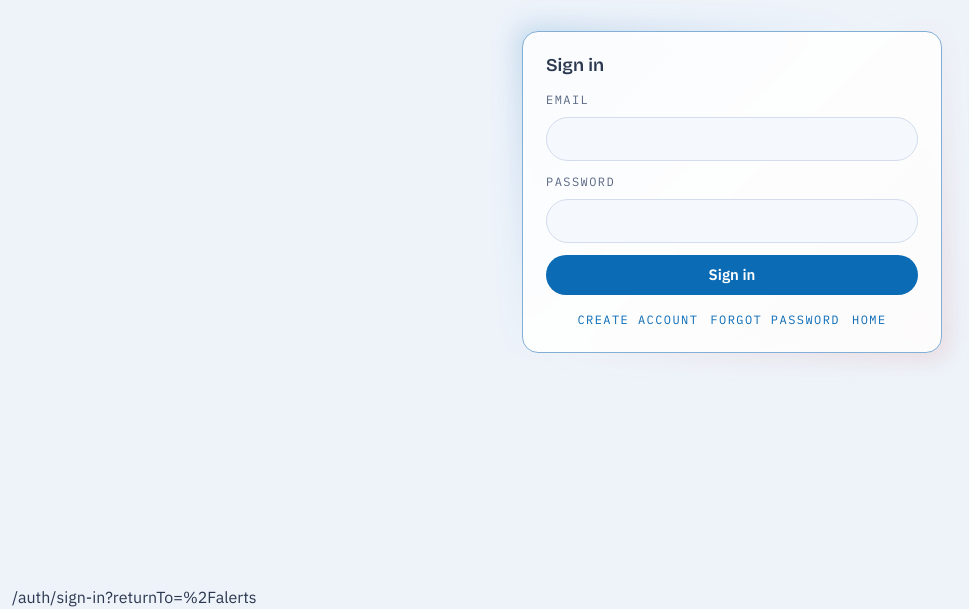
Test case: SignInPage › routes to /auth/confirm on UserNotConfirmedException with the email
Type "a@e.com" into the field labelled "Email" at (732, 139), box [546,117,918,161]
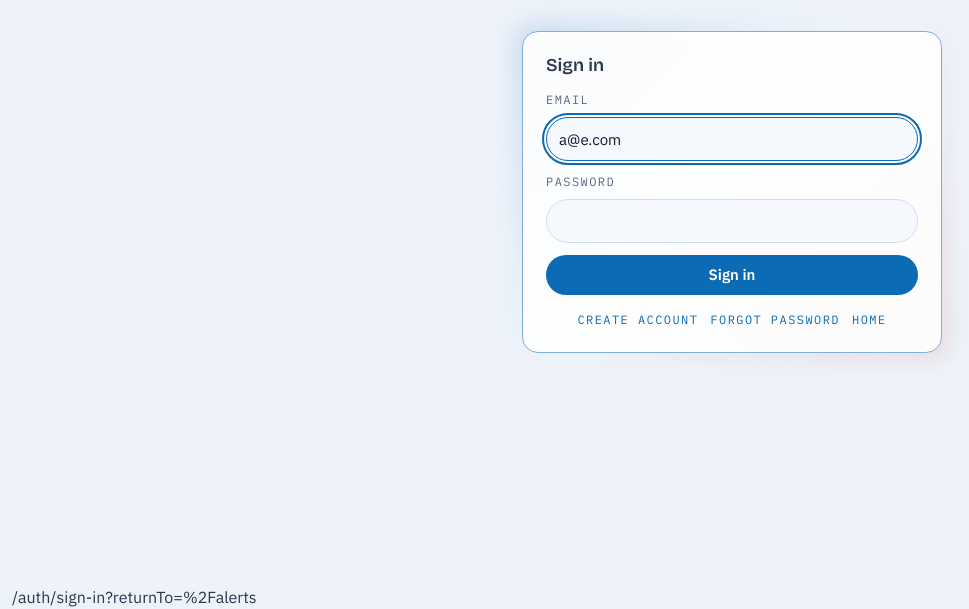
Type "hunter22hunter" into the password field labelled "Password" at (732, 221), box [546,199,918,243]
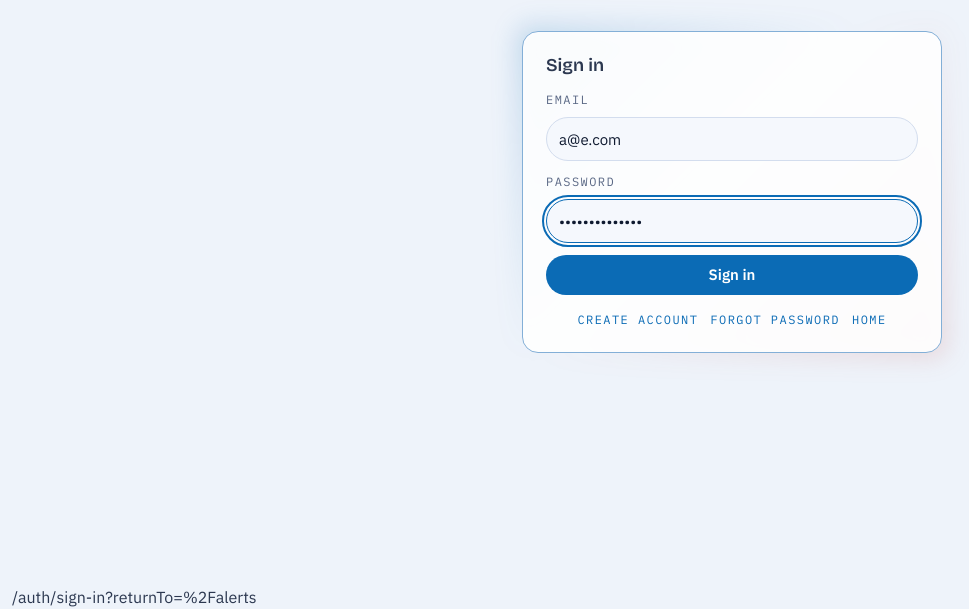
Click the button with test id "auth-submit" at (732, 275), box [546,255,918,295]
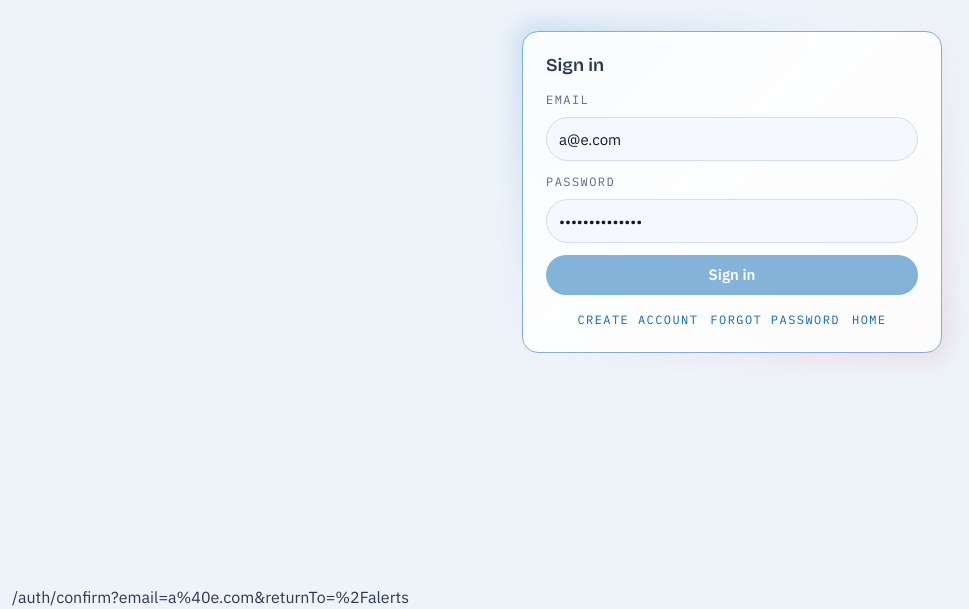
Expected: the text with test id "here" shows "returnTo=%2Falerts", [111,587,409,607]
Expected: the text with test id "here" shows "email=a%40e.com", [111,587,409,607]
